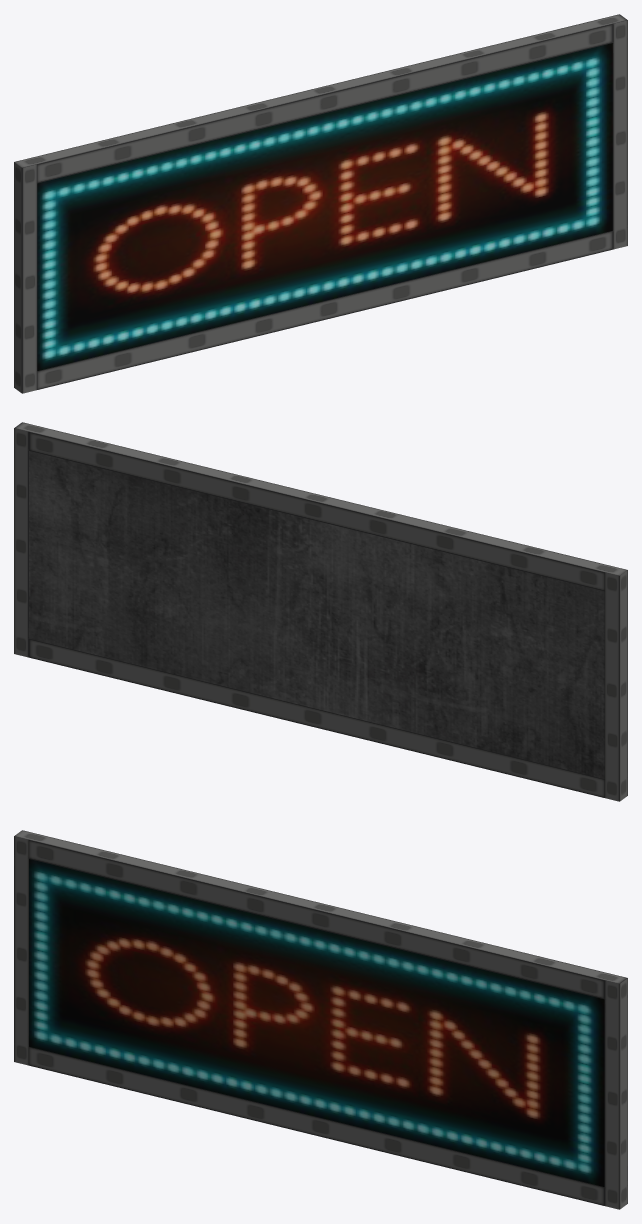
The model's file is sign board8.FBX.
3 views of the same model, one above another, from view 1: azimuth 30°, elevation 25°; view 2: azimuth 150°, elevation 25°; view 3: azimuth 330°, elevation 25° (orthographic).
Parts seen in each view (by area): view 1: sign board8; view 2: sign board8; view 3: sign board8.
Part boxes in pixels (x1,y1,x2,y2): sign board8: (14,14,627,393); sign board8: (14,422,627,801); sign board8: (14,830,627,1209).
Bounding box in the file's own units: 13.8 × 4.91 × 0.3264.
